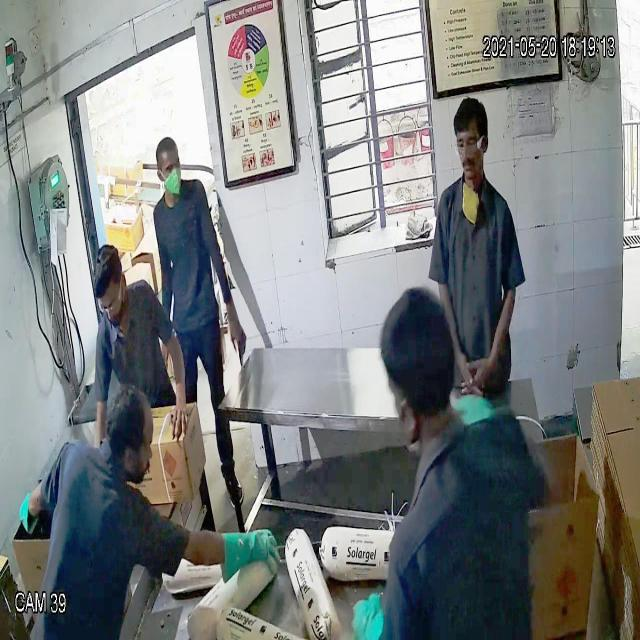glasses: (452, 135, 488, 160)
no-glass: (151, 159, 186, 179)
